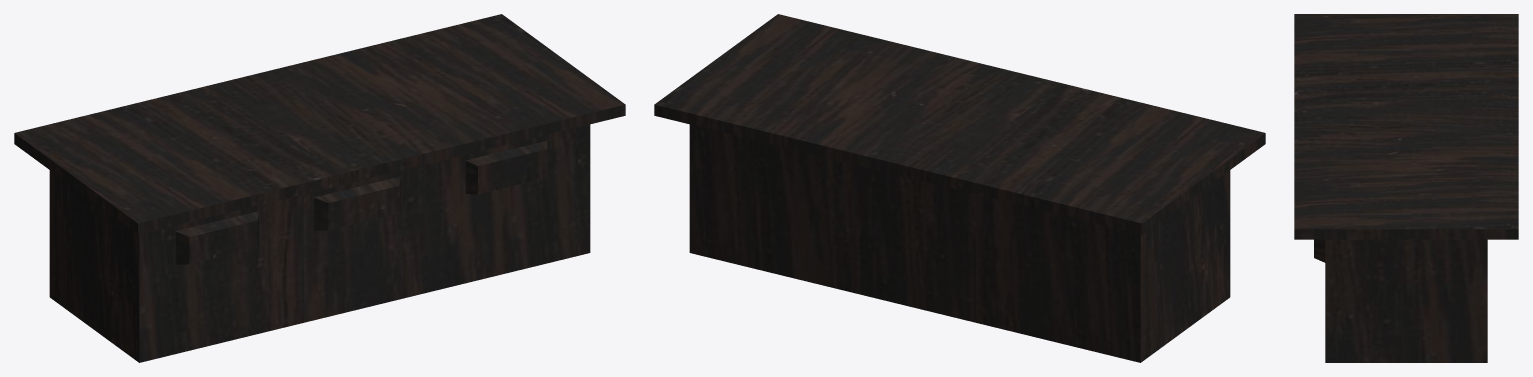
File: dresser.fbx
3 renders of one model, left to right at view 1: azimuth 30°, elevation 25°; view 2: azimuth 150°, elevation 25°; view 3: azimuth 270°, elevation 25°, orthographic. The views are drawn at different scales.
Visible parts, largest first — view 1: pCube1; view 2: pCube1; view 3: pCube1.
Boxes of the visible parts, x1,y1,x2,y2 form: pCube1: [14, 14, 625, 362]; pCube1: [654, 14, 1265, 362]; pCube1: [1294, 14, 1518, 362].
Bounding box in the file's own units: 2.4 × 0.7418 × 1.06.
1 material, 1 textured.
